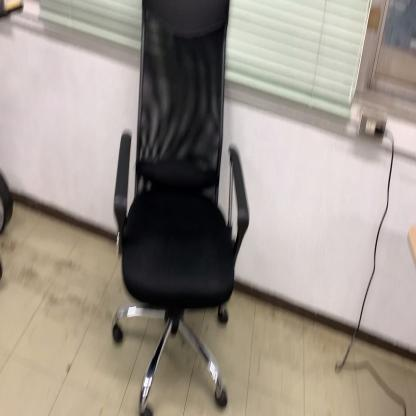chair: (111, 0, 252, 415)
